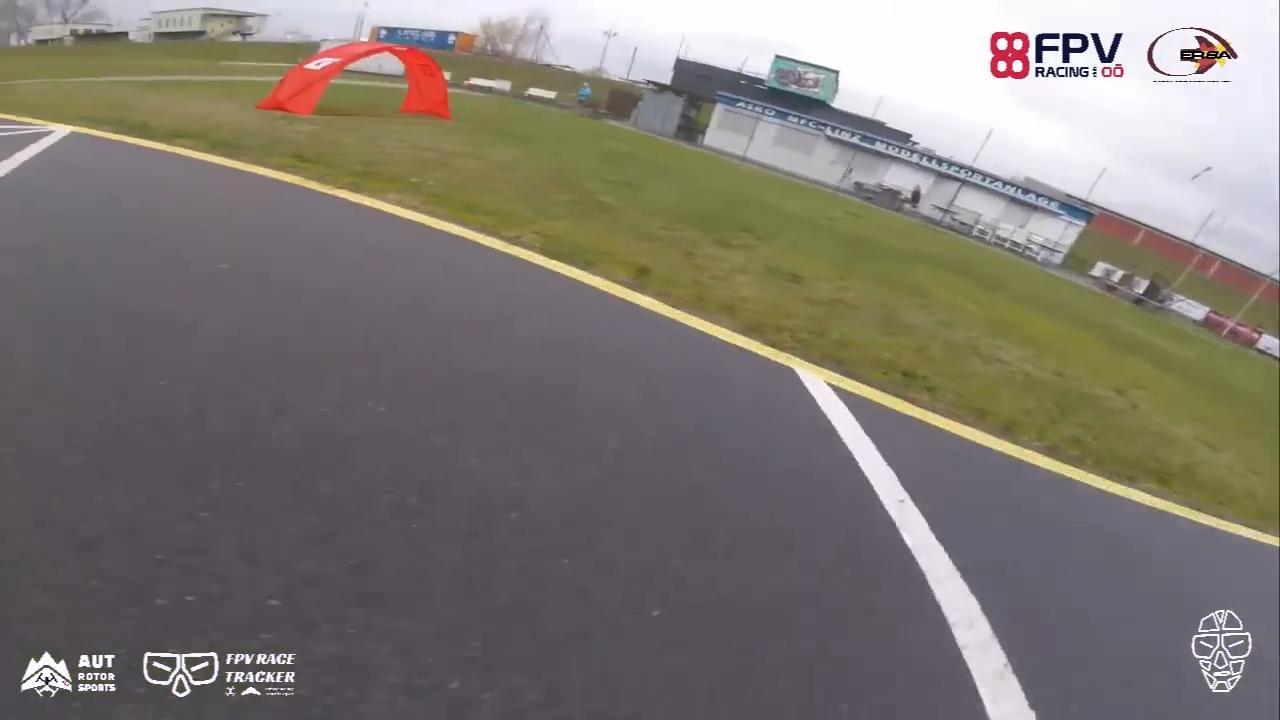gate: (255, 39, 453, 117)
